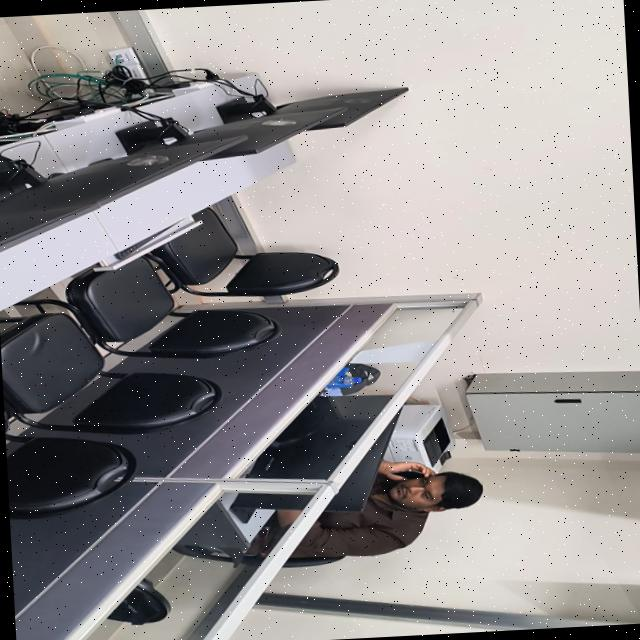Chair: (0, 312, 221, 433), (20, 256, 280, 357), (143, 207, 339, 296), (4, 409, 136, 517), (108, 578, 171, 624)
Monitor: (0, 134, 247, 210), (247, 394, 391, 478), (187, 96, 368, 158), (325, 413, 399, 511), (278, 87, 408, 130), (0, 193, 88, 244), (234, 492, 312, 508)
